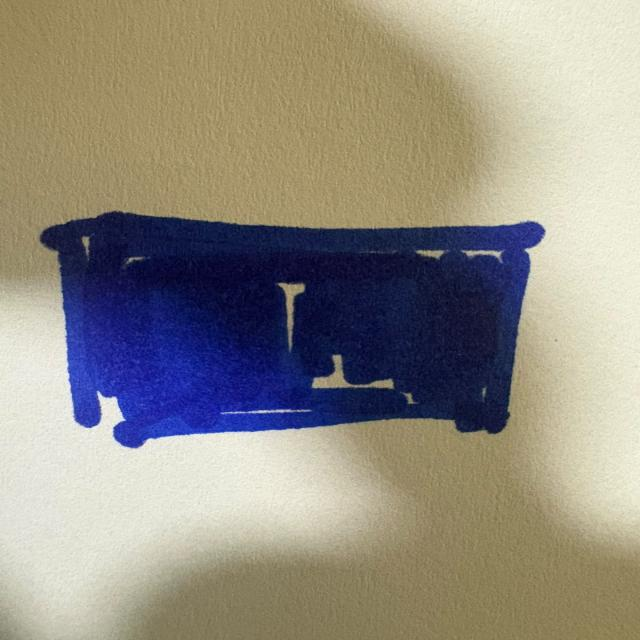Rectangle: (32, 206, 575, 454)
